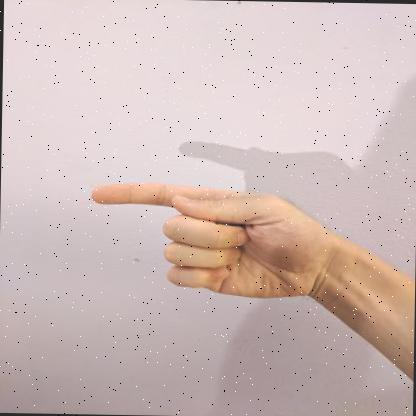G: (90, 182, 340, 302)
